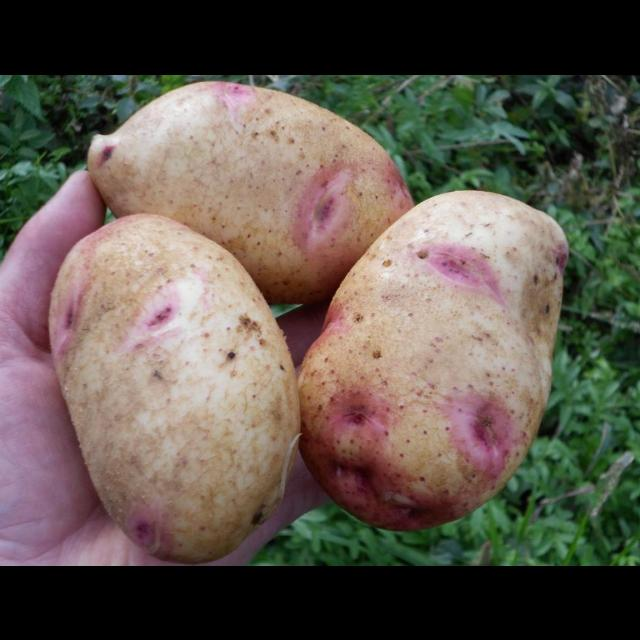Diseased-fungal potato: (298, 187, 566, 528), (50, 214, 300, 564), (90, 82, 426, 304)
